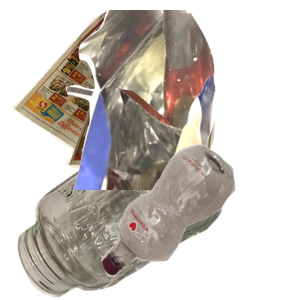glass: (15, 126, 229, 300)
paper: (10, 10, 217, 189)
plastic: (99, 142, 300, 300)
trash: (63, 10, 300, 190)
